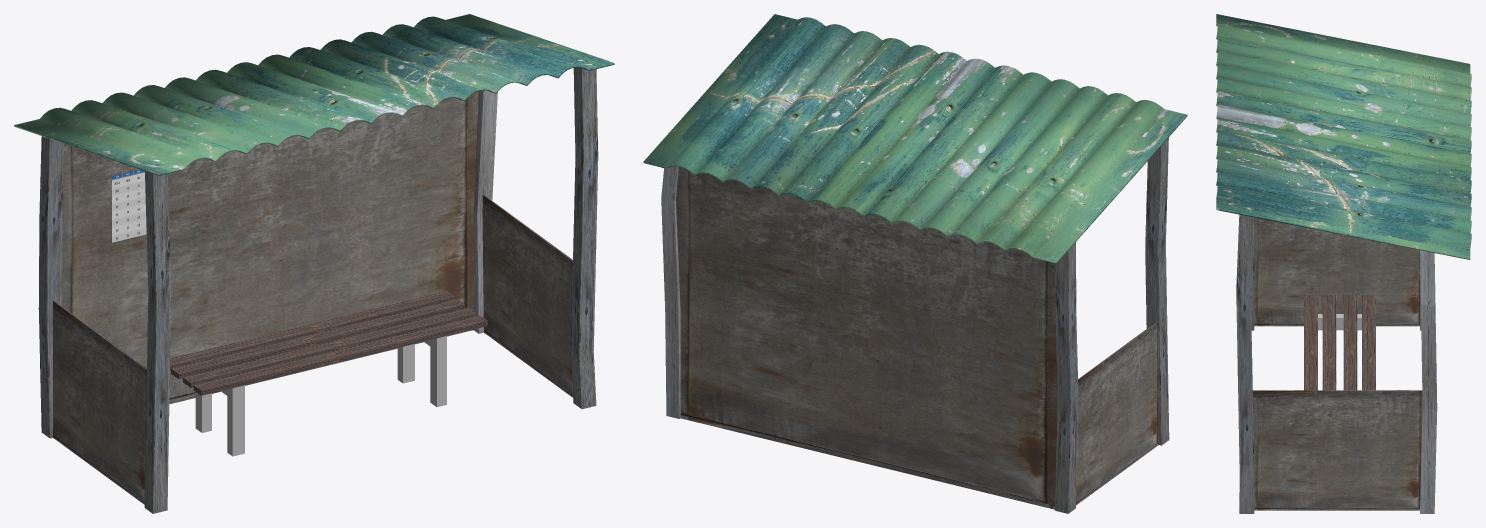
Rendered from bus stop.fbx.
The picture shows the model from 3 angles, left to right: view 1: azimuth 30°, elevation 25°; view 2: azimuth 150°, elevation 25°; view 3: azimuth 270°, elevation 25°; orthographic projection. The views are drawn at different scales.
Parts seen in each view (by area): view 1: Plane.024, Cube.047; view 2: Plane.024; view 3: Plane.024, Cube.047.
Boxes of the visible parts, bbox=[...] form: Plane.024: bbox=[14, 14, 614, 513]; Cube.047: bbox=[170, 291, 487, 456]; Plane.024: bbox=[643, 14, 1187, 513]; Plane.024: bbox=[1216, 14, 1471, 513]; Cube.047: bbox=[1304, 295, 1375, 390].
Bounding box in the file's own units: 4.54 × 3.4 × 2.52.
